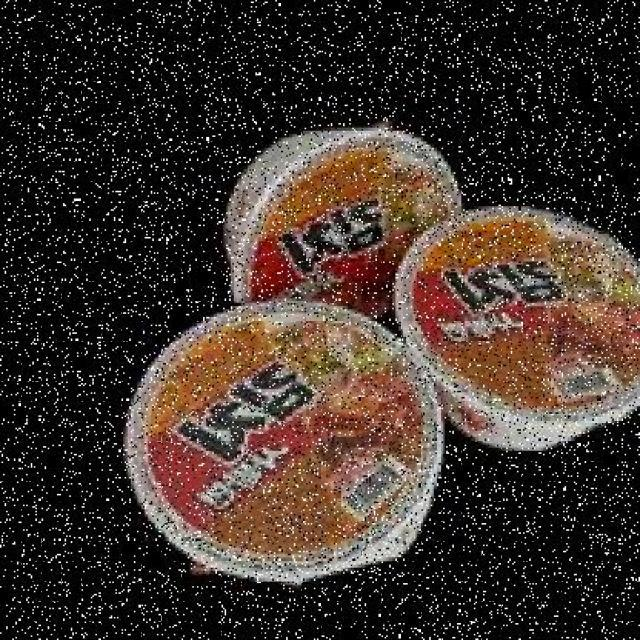Miscellaneous: (115, 310, 438, 575), (395, 203, 640, 448), (222, 121, 462, 344)
